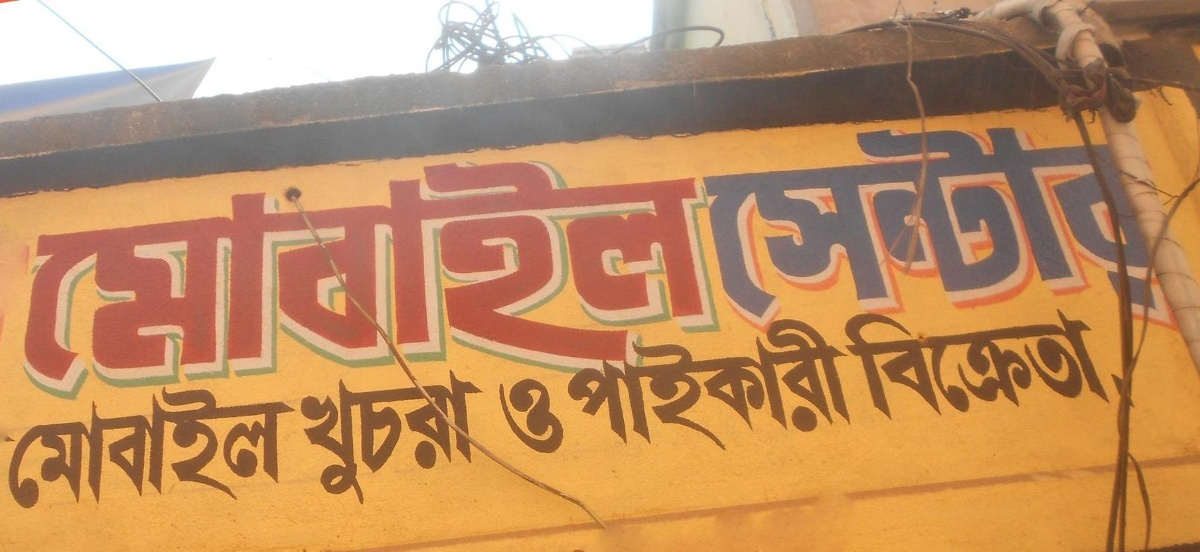text: (49, 135, 64, 414), (65, 135, 80, 414), (81, 135, 96, 414), (97, 135, 112, 414), (113, 135, 128, 414), (129, 135, 144, 414), (145, 135, 160, 414), (161, 135, 176, 414), (177, 135, 192, 414), (193, 135, 208, 414), (209, 135, 224, 414), (225, 135, 240, 414), (241, 135, 256, 414), (257, 135, 272, 414), (273, 135, 288, 414), (289, 135, 304, 414), (305, 135, 320, 414), (321, 135, 336, 414), (337, 135, 352, 414), (353, 135, 368, 414), (369, 135, 384, 414), (385, 135, 400, 414), (401, 135, 416, 414), (417, 135, 432, 414), (433, 135, 448, 414), (449, 135, 464, 414), (465, 135, 480, 414), (481, 135, 496, 414), (497, 135, 512, 414), (513, 135, 528, 414), (529, 135, 544, 414), (545, 135, 560, 414), (561, 135, 576, 414), (577, 135, 592, 414), (593, 135, 608, 414), (609, 135, 624, 414), (625, 135, 640, 414), (641, 135, 656, 414), (657, 135, 672, 414), (673, 135, 688, 414), (689, 135, 704, 414), (705, 135, 720, 414), (721, 135, 736, 414), (705, 94, 720, 342), (721, 94, 736, 342), (737, 94, 752, 342), (753, 94, 768, 342), (769, 94, 784, 342), (785, 94, 800, 342), (801, 94, 816, 342), (817, 94, 832, 342), (833, 94, 848, 342), (849, 94, 864, 342), (865, 94, 880, 342), (881, 94, 896, 342), (897, 94, 912, 342), (913, 94, 928, 342), (929, 94, 944, 342), (945, 94, 960, 342), (961, 94, 976, 342), (977, 94, 992, 342), (993, 94, 1008, 342), (1009, 94, 1024, 342), (1025, 94, 1040, 342), (1041, 94, 1056, 342), (1057, 94, 1072, 342), (1073, 94, 1088, 342), (1089, 94, 1104, 342), (1105, 94, 1120, 342), (1121, 94, 1136, 342), (1137, 94, 1152, 342), (1153, 94, 1168, 342), (1169, 94, 1180, 342), (561, 311, 576, 472), (577, 311, 592, 472), (593, 311, 608, 472), (609, 311, 624, 472), (625, 311, 640, 472), (641, 311, 656, 472), (657, 311, 672, 472), (673, 311, 688, 472), (689, 311, 704, 472), (705, 311, 720, 472), (721, 311, 736, 472), (737, 311, 752, 472), (753, 311, 768, 472), (769, 311, 784, 472), (785, 311, 800, 472), (801, 311, 816, 472), (817, 311, 832, 472), (833, 311, 848, 472), (849, 311, 864, 472), (695, 94, 704, 342), (305, 371, 320, 505), (321, 371, 336, 505), (337, 371, 352, 505), (353, 371, 368, 505), (369, 371, 384, 505), (385, 371, 400, 505), (401, 371, 416, 505), (417, 371, 432, 505), (433, 371, 448, 505), (449, 371, 464, 505), (465, 371, 480, 505), (849, 301, 864, 433), (865, 301, 880, 433), (881, 301, 896, 433), (897, 301, 912, 433), (913, 301, 928, 433), (929, 301, 944, 433), (945, 301, 960, 433), (961, 301, 976, 433), (977, 301, 992, 433), (993, 301, 1008, 433), (1009, 301, 1024, 433), (1025, 301, 1040, 433), (1041, 301, 1056, 433), (1057, 301, 1072, 433), (1073, 301, 1088, 433), (1089, 301, 1104, 433), (33, 381, 48, 511), (49, 381, 64, 511), (65, 381, 80, 511), (81, 381, 96, 511), (97, 381, 112, 511), (113, 381, 128, 511), (129, 381, 144, 511), (145, 381, 160, 511), (161, 381, 176, 511), (177, 381, 192, 511), (193, 381, 208, 511), (209, 381, 224, 511), (225, 381, 240, 511), (241, 381, 256, 511), (257, 381, 272, 511), (273, 381, 288, 511), (42, 135, 48, 414), (836, 301, 848, 433), (22, 381, 32, 511), (513, 378, 528, 454), (529, 378, 544, 454), (545, 378, 560, 454), (737, 135, 741, 414), (1105, 301, 1113, 433), (289, 381, 297, 511), (500, 378, 512, 454), (865, 311, 870, 472), (298, 371, 304, 505), (481, 371, 485, 505), (561, 378, 565, 454)
